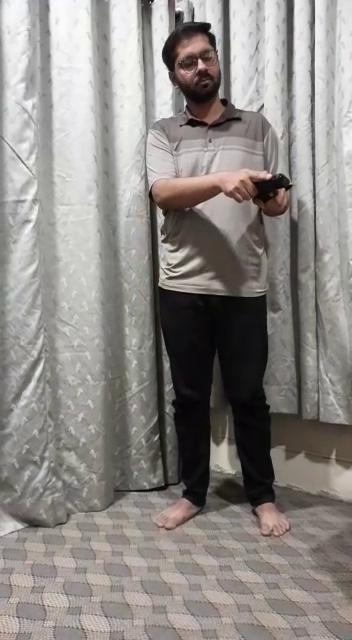criminal: (141, 19, 302, 536)
weapon: (245, 170, 299, 206)
